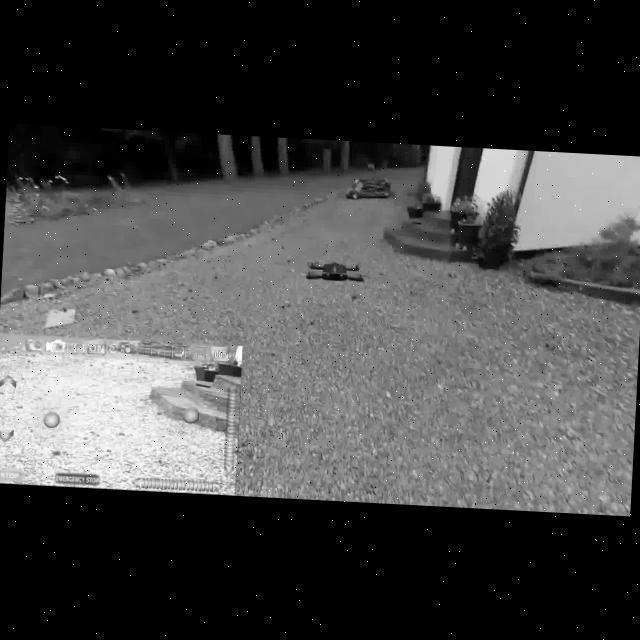Drons: (292, 249, 374, 289)
